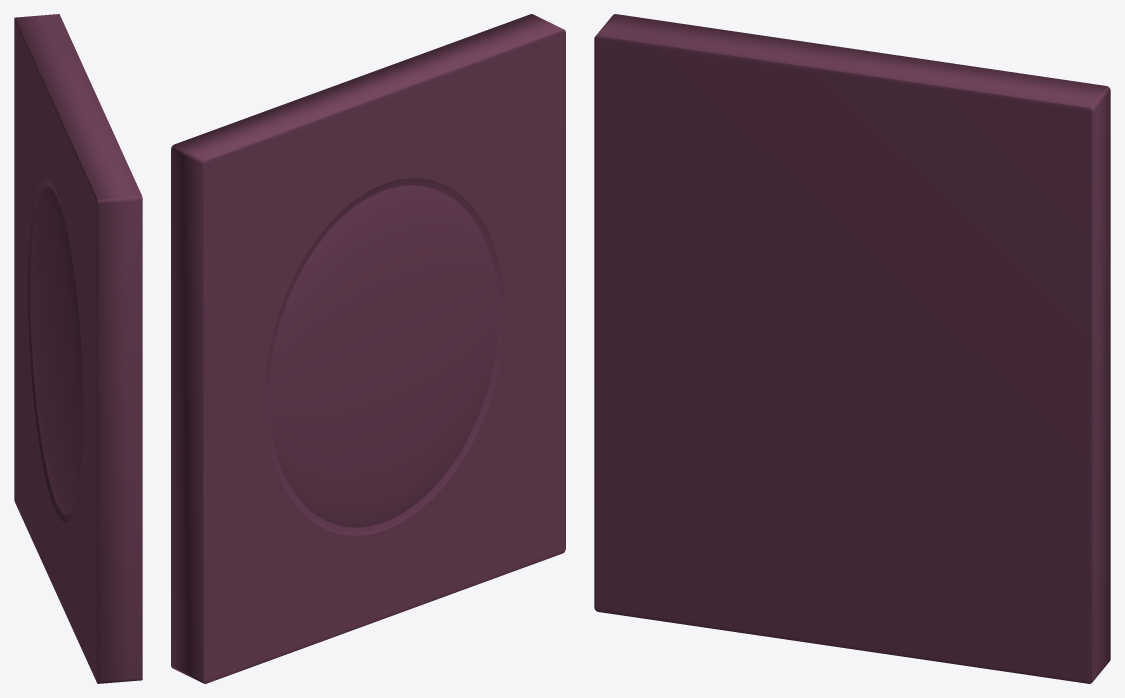
The model's file is Wall_circle.fbx.
The picture shows the model from 3 angles, left to right: view 1: azimuth 30°, elevation 25°; view 2: azimuth 150°, elevation 25°; view 3: azimuth 270°, elevation 25°; orthographic projection. The views are drawn at different scales.
Parts seen in each view (by area): view 1: pasted__BackIndent_0_1; view 2: pasted__BackIndent_0_1; view 3: pasted__BackIndent_0_1.
Boxes of the visible parts, <box> form: pasted__BackIndent_0_1: <box>14,14,142,683</box>; pasted__BackIndent_0_1: <box>171,14,565,683</box>; pasted__BackIndent_0_1: <box>594,14,1110,683</box>.
Size of the model in its own units: 22.12 by 62.71 by 50.92.
